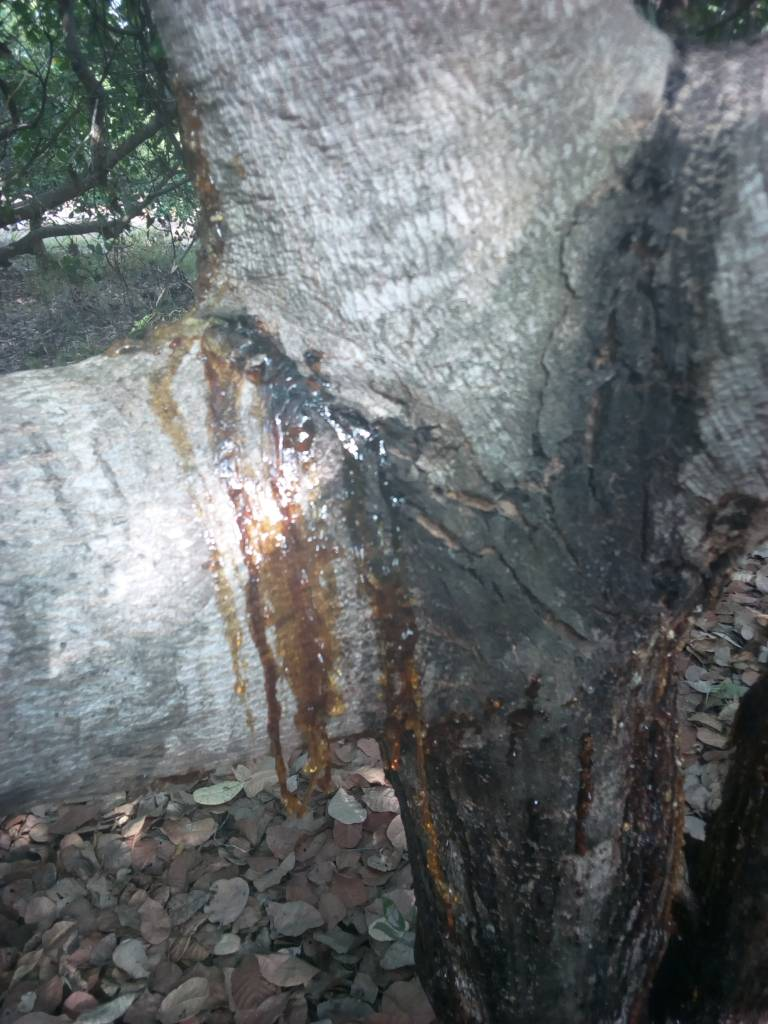Gommose: (185, 324, 471, 917), (571, 641, 683, 1007)
